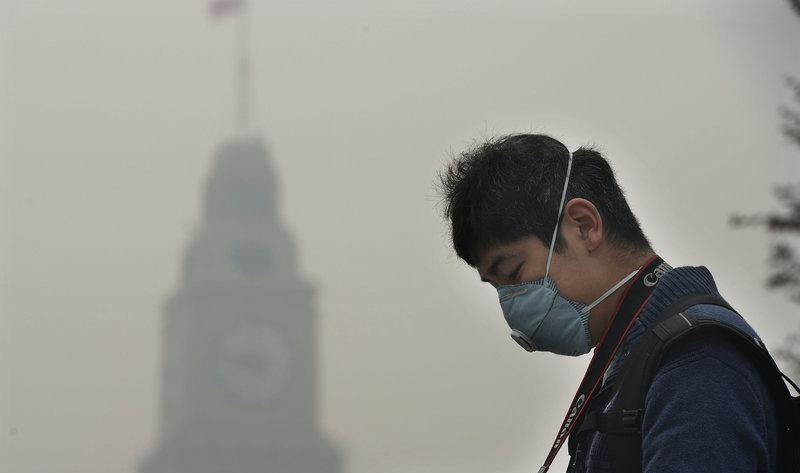face_mask: (477, 249, 595, 355)
